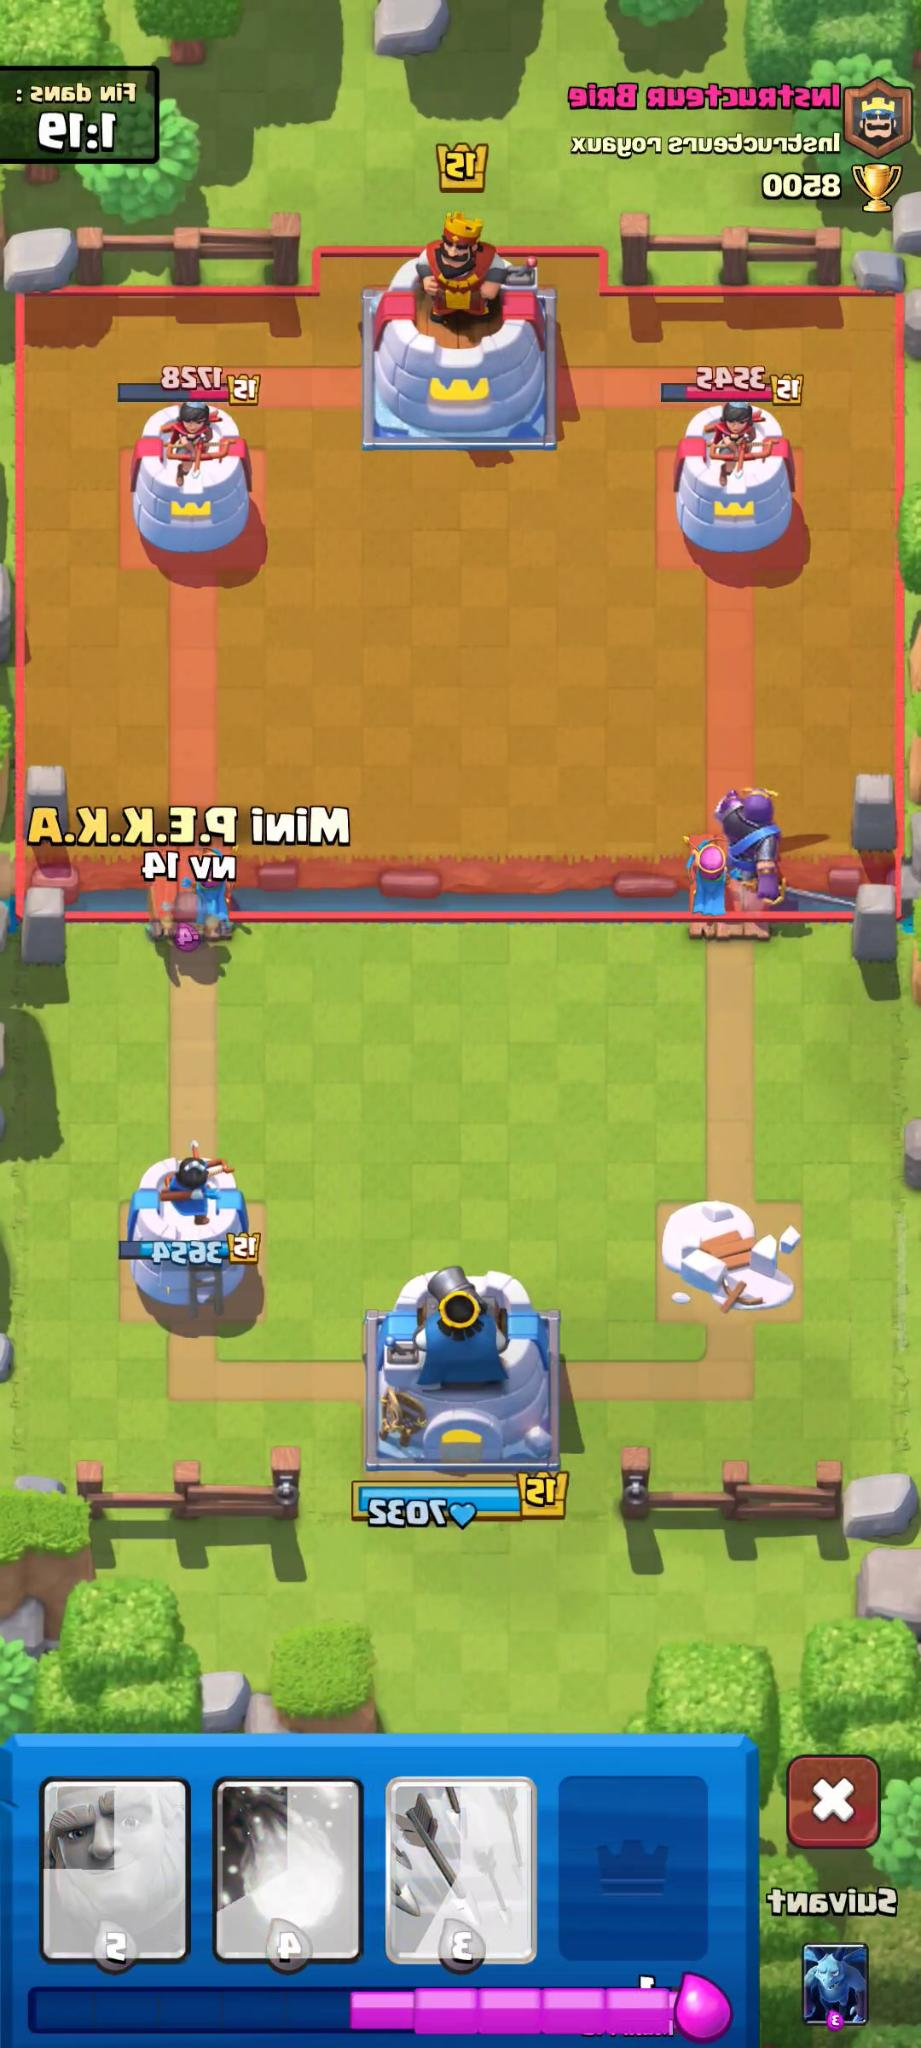archere: (653, 836, 739, 925), (176, 841, 247, 939)
chevalier: (716, 777, 850, 913)
mini_PEKKA: (142, 888, 206, 961)
